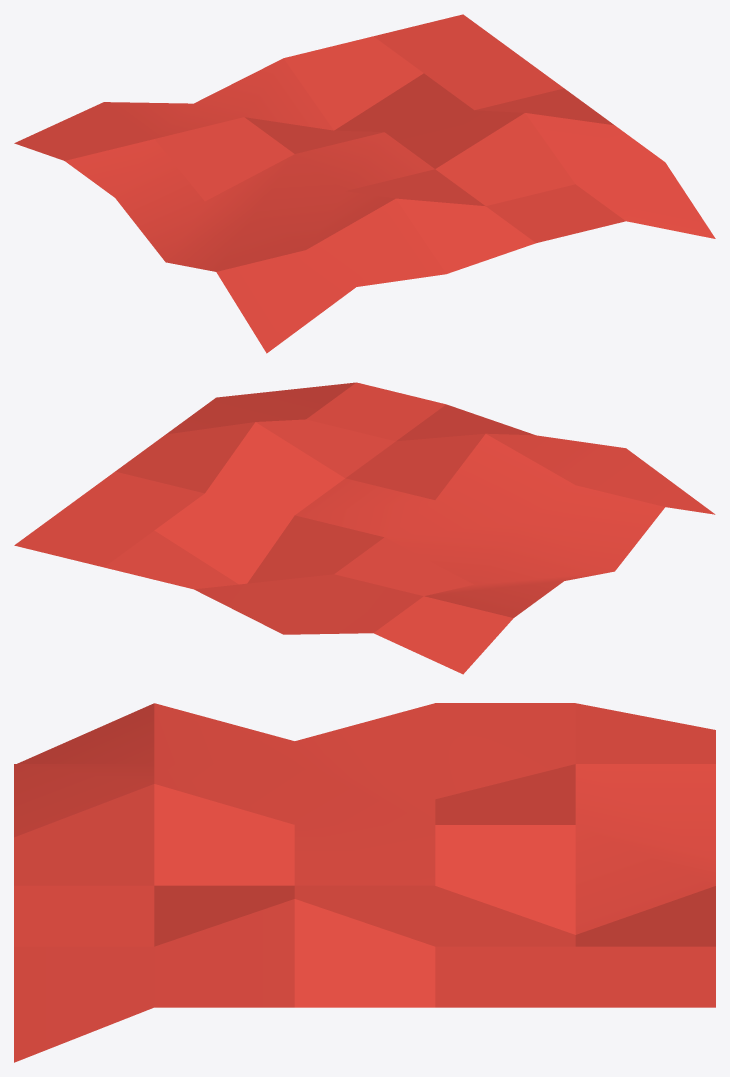
Rendered from SmithEmber.fbx.
3 renders of one model, top to bottom at view 1: azimuth 30°, elevation 25°; view 2: azimuth 150°, elevation 25°; view 3: azimuth 270°, elevation 25°, orthographic. The views are drawn at different scales.
Parts seen in each view (by area): view 1: Smith; view 2: Smith; view 3: Smith.
Part boxes in pixels (bbox=[...]): Smith: bbox=[14, 14, 715, 353]; Smith: bbox=[14, 382, 715, 674]; Smith: bbox=[14, 703, 715, 1062].
Size of the model in its own units: 94.8 by 15.95 by 92.39.
